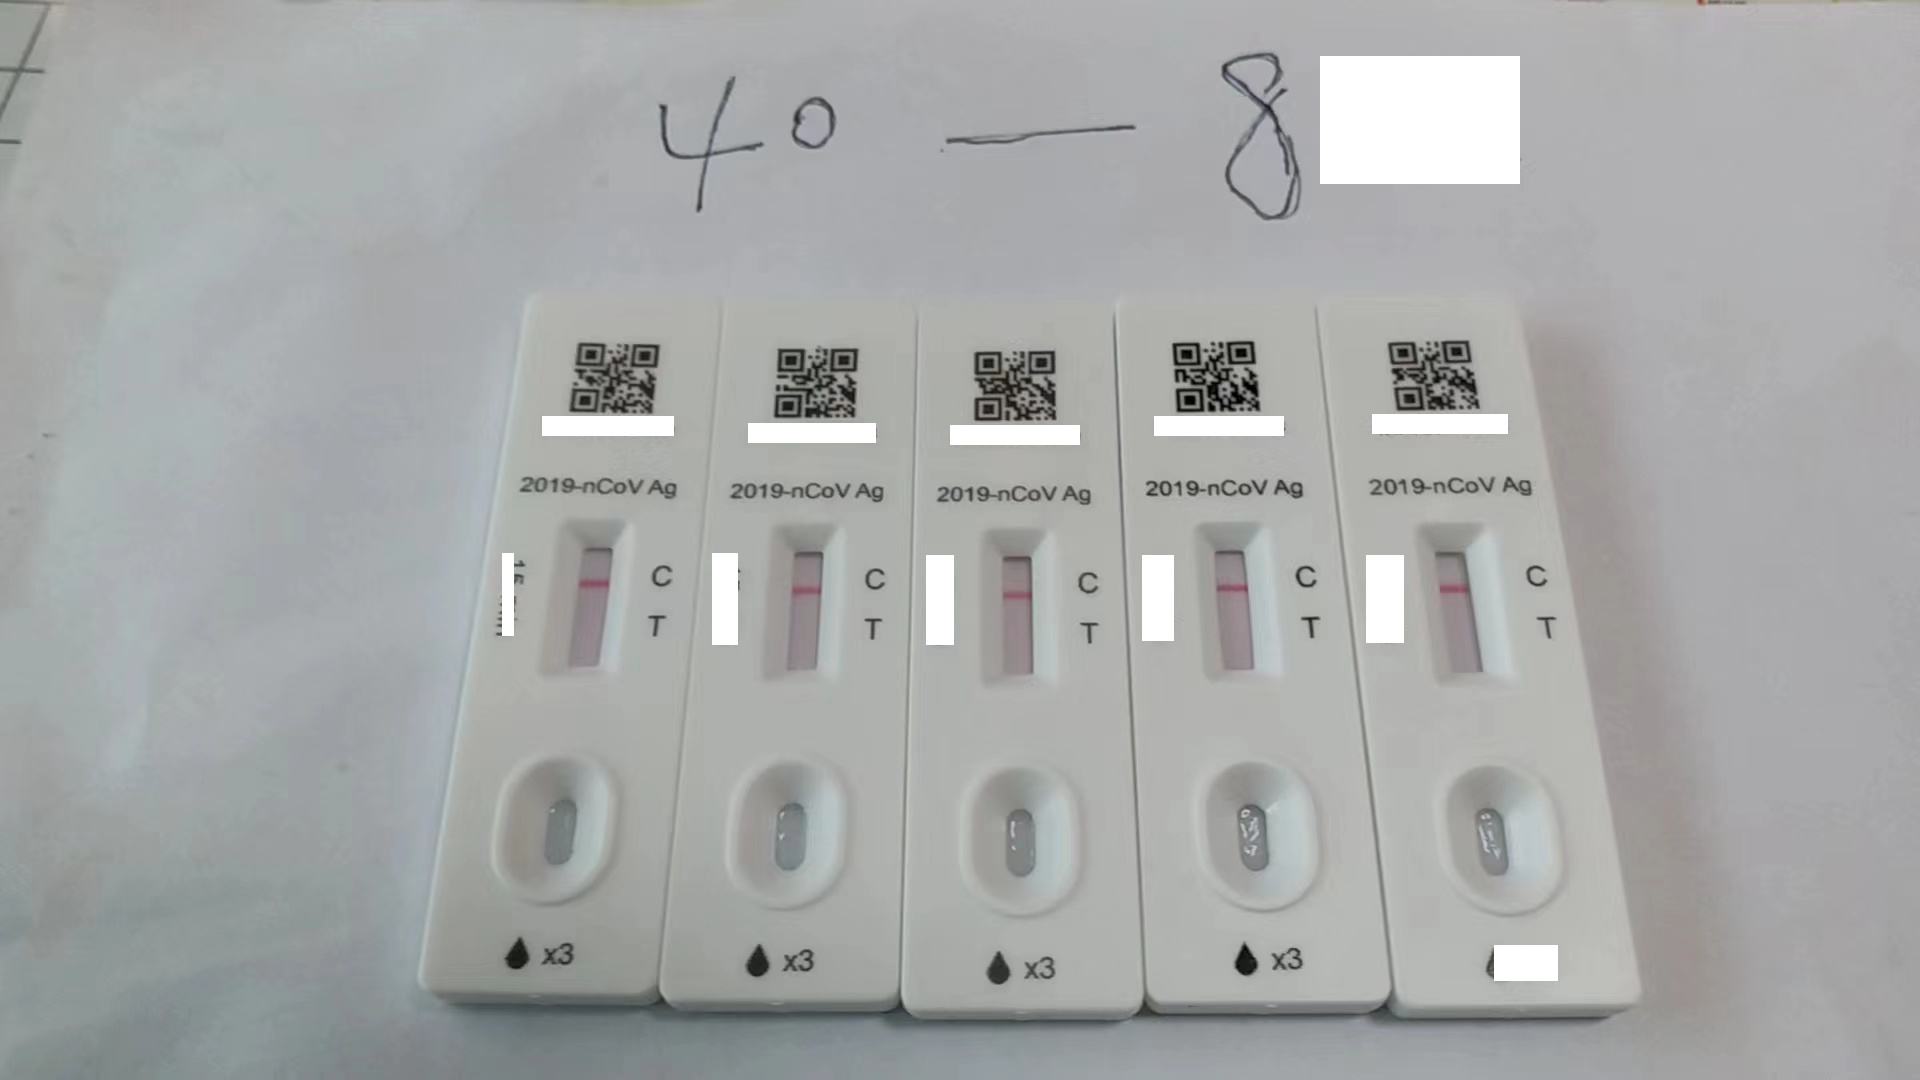negative: (1416, 522, 1502, 691), (549, 516, 629, 680), (1199, 521, 1279, 680), (978, 527, 1055, 688), (765, 526, 840, 679)
